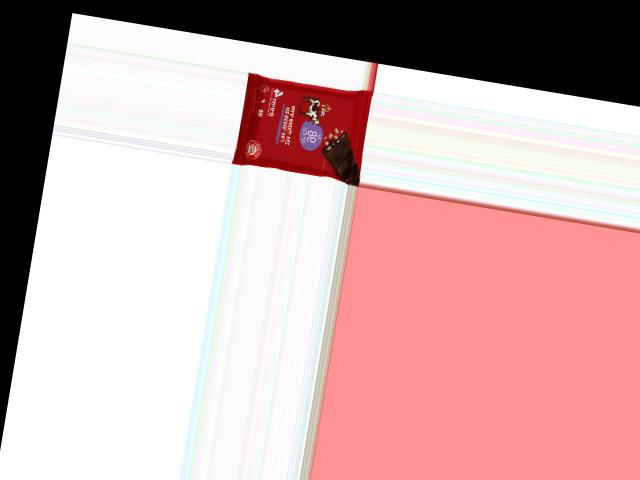chocolate: (231, 71, 372, 182)
